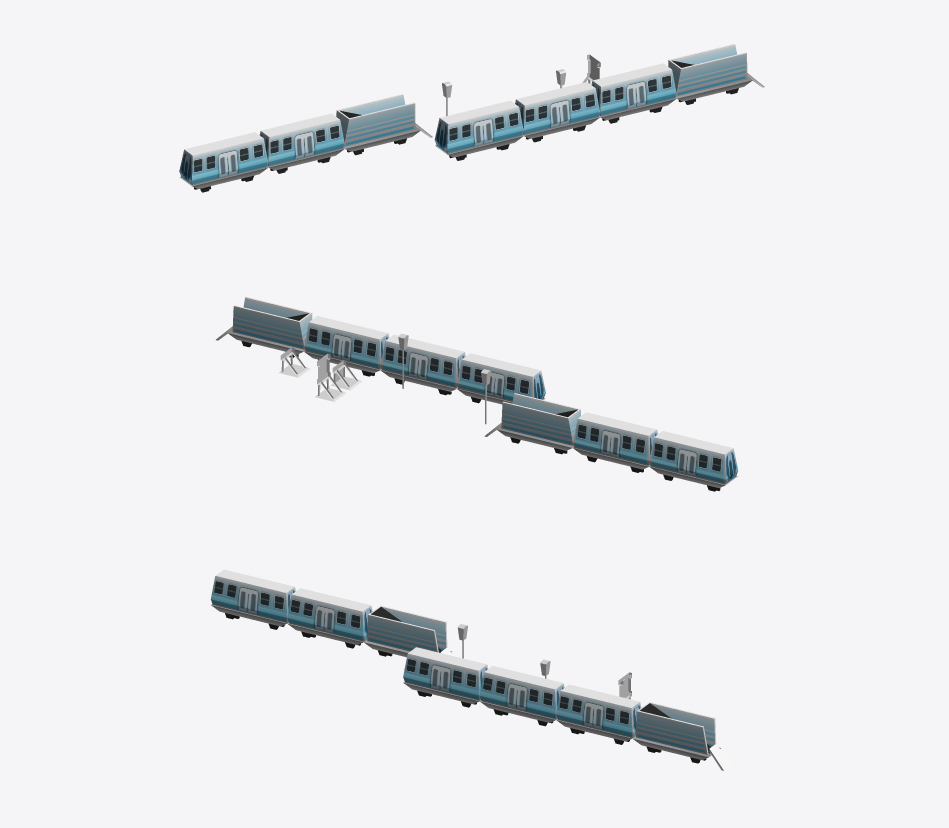
Rendered from subwaymap1.glb.
3 views of the same model, one above another, from view 1: azimuth 30°, elevation 25°; view 2: azimuth 150°, elevation 25°; view 3: azimuth 330°, elevation 25° (orthographic).
Visible parts, largest first — view 1: train1.003, train1.005, trainslope.001, trainslope, train1.006, train1.002, train1.001; view 2: train1.005, trainslope.001, train1.006, trainslope, train1.002, train1.001, train1.003, Cube.001; view 3: trainslope, train1.006, train1.002, train1.005, train1.003, train1.001, trainslope.001.
Boxes of the visible parts, x1,y1,x2,y2 form: train1.003: (434, 100, 523, 160); train1.005: (179, 132, 267, 192); trainslope.001: (336, 94, 432, 155); trainslope: (668, 44, 764, 104); train1.006: (259, 113, 344, 173); train1.002: (591, 63, 676, 123); train1.001: (515, 82, 599, 142); train1.005: (649, 431, 738, 491); trainslope.001: (484, 393, 580, 454); train1.006: (573, 412, 657, 472); trainslope: (216, 296, 312, 357); train1.002: (304, 316, 389, 376); train1.001: (380, 334, 465, 395); train1.003: (457, 353, 545, 404); Cube.001: (315, 353, 346, 401); trainslope: (632, 702, 733, 770); train1.006: (287, 588, 372, 648); train1.002: (556, 684, 641, 744); train1.005: (210, 569, 295, 629); train1.003: (403, 647, 487, 707); train1.001: (479, 666, 564, 726); trainslope.001: (364, 605, 454, 657).
Bounding box in the file's own units: 160 × 9.52 × 15.
Materials: 1 (1 with a texture image).
